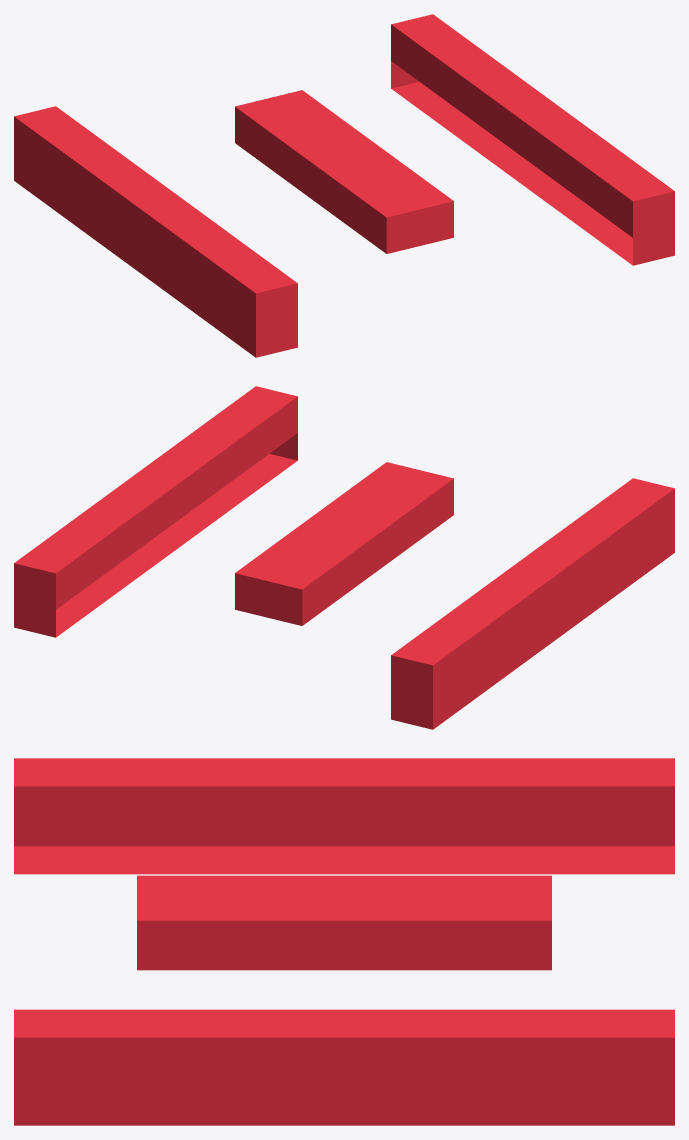
Rendered from obstacle block pared.FBX.
The picture shows the model from 3 angles, top to bottom: view 1: azimuth 30°, elevation 25°; view 2: azimuth 150°, elevation 25°; view 3: azimuth 270°, elevation 25°; orthographic projection. The views are drawn at different scales.
Visible parts, largest first — view 1: obstacleBlock; view 2: obstacleBlock; view 3: obstacleBlock.
Boxes of the visible parts, x1=… form: obstacleBlock: x1=14, y1=14, x2=674, y2=357; obstacleBlock: x1=14, y1=386, x2=674, y2=729; obstacleBlock: x1=14, y1=758, x2=674, y2=1125.
Size of the model in its own units: 99.99 by 14.67 by 99.99.
